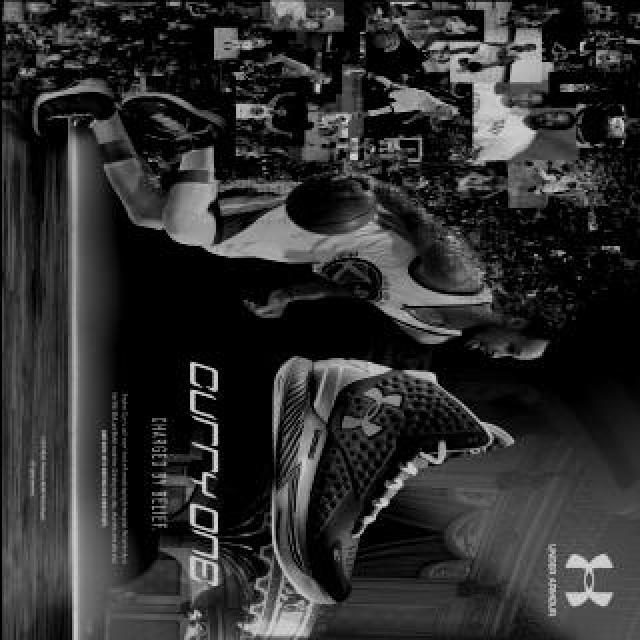shoe: (268, 356, 512, 604), (130, 94, 230, 154), (32, 76, 116, 138)
